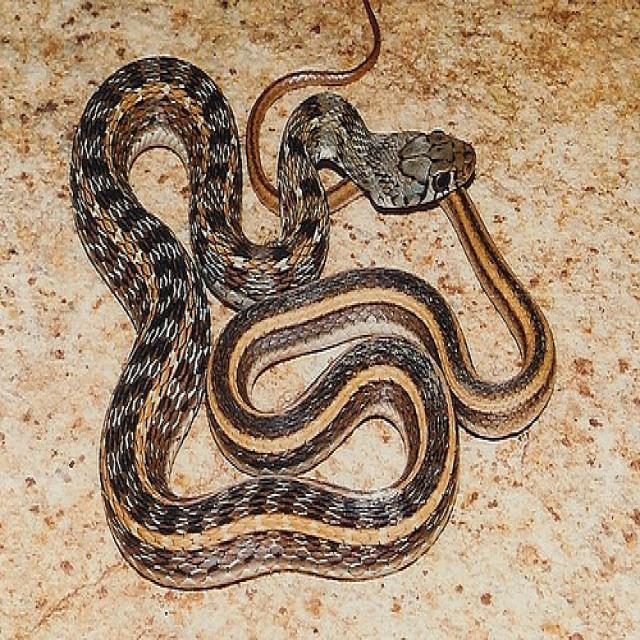Snake: (67, 1, 556, 592)
